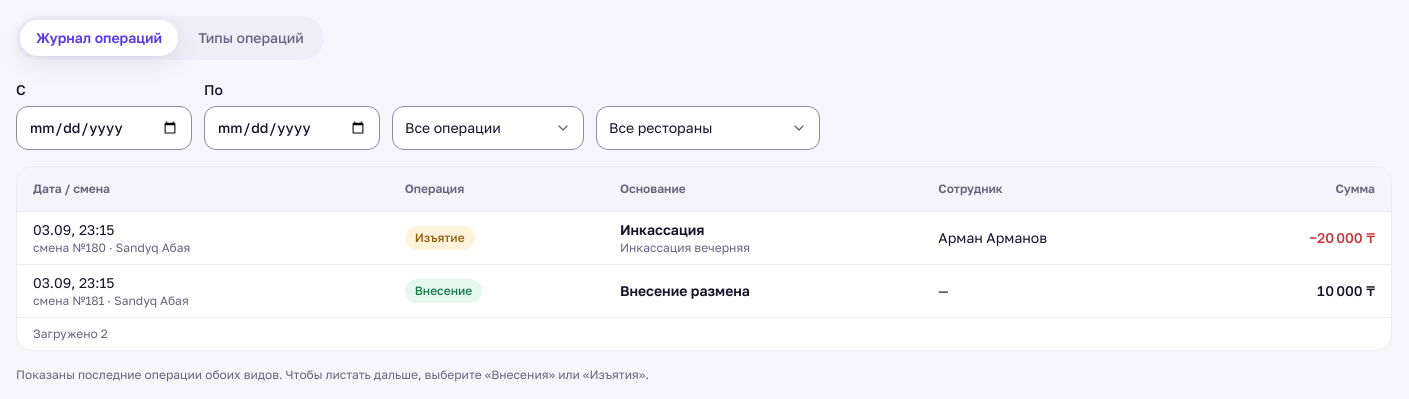
Test: «Журнал операций» (W1-RTL-04) › sends the Almaty day range of the period and asks to fix a reversed one
The width and height of the screenshot is (1409, 399).
In the date field named "Период с": (104, 128) [16,106,192,150], type "2026-09-01"
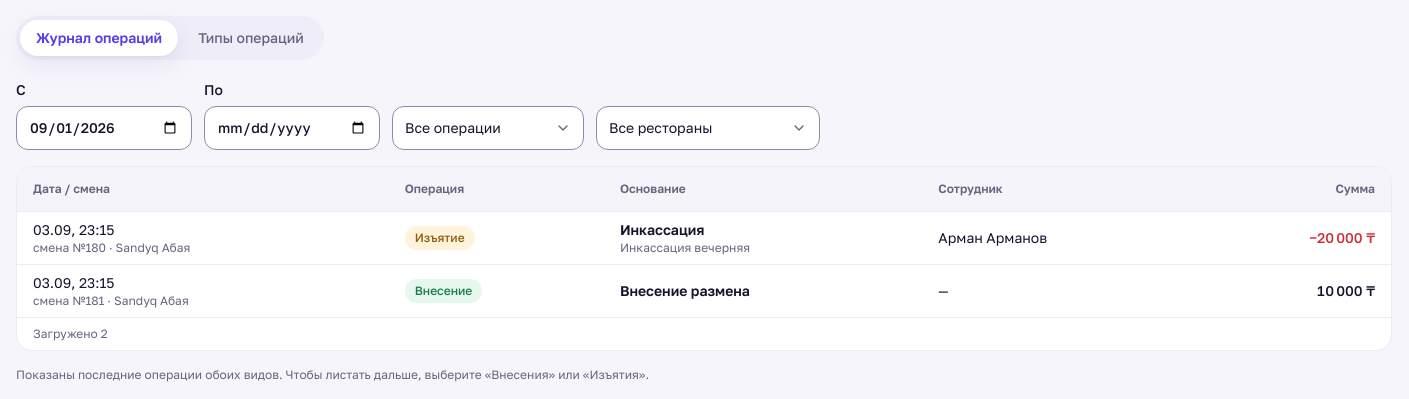
In the date field named "Период по": (292, 128) [204,106,380,150], type "2026-09-03"
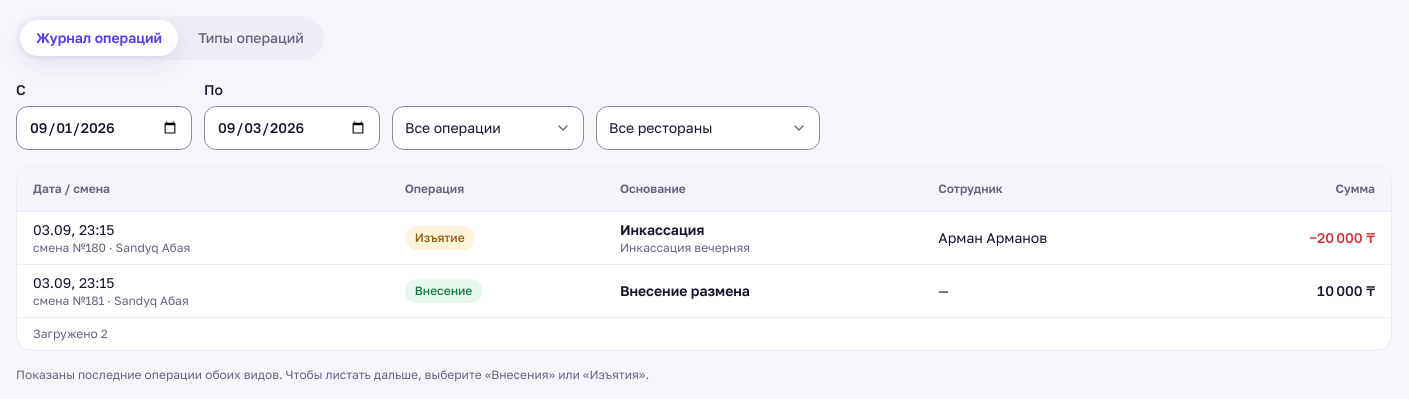
In the date field named "Период с": (104, 128) [16,106,192,150], type "2026-09-05"
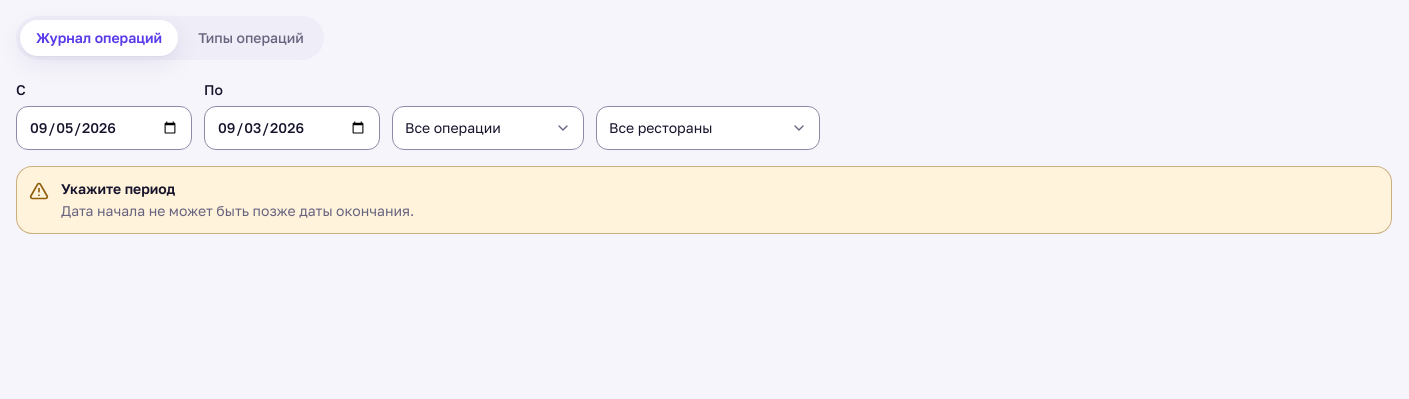
Check: the text "Укажите период" is shown, box [61,180,175,197]
